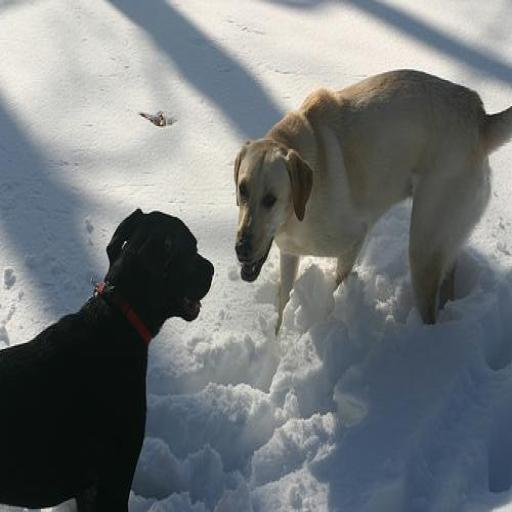dog_face: (111, 206, 215, 323), (229, 142, 301, 276)
